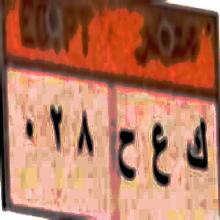0: (23, 109, 36, 152)
2: (48, 95, 66, 158)
7aa: (118, 122, 136, 190)
8: (76, 110, 96, 166)
ain: (150, 118, 173, 198)
kaaf: (186, 112, 210, 179)
